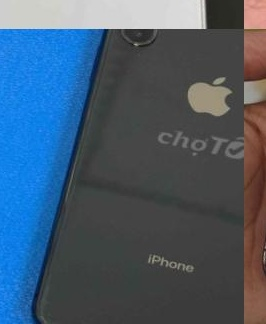scratch: (244, 29, 266, 270), (118, 43, 156, 67), (111, 60, 141, 79), (37, 314, 65, 324)
